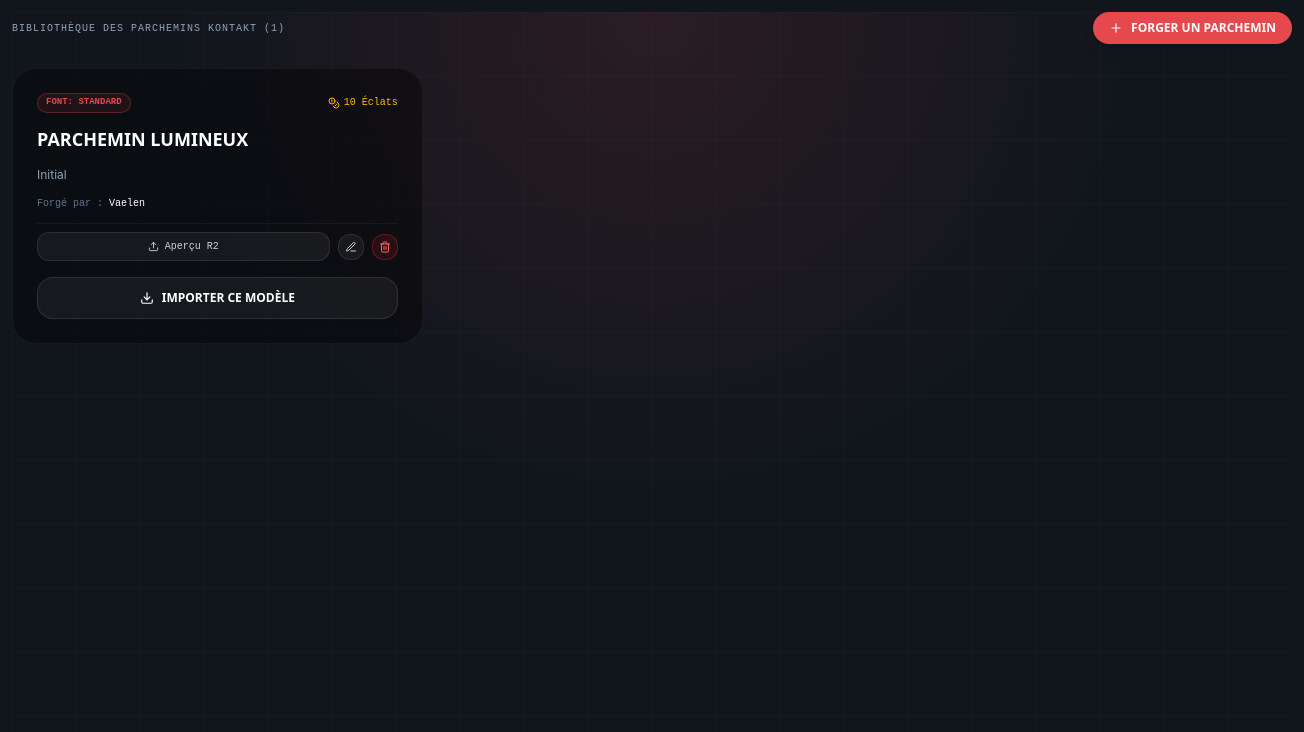
Composant CVMarketplaceGallery (SSOT & Gestion R2) › 🟢 doit modifier (PUT) et dissoudre (DELETE) un parchemin via /api/kontakt/templates/[slug]
Expected: the heading "Parchemin Lumineux" is shown, [37, 126, 248, 150]
# Édition (PUT)
Step 1. Click the button titled "Modifier Parchemin Lumineux" → (351,246), box [338, 234, 364, 260]
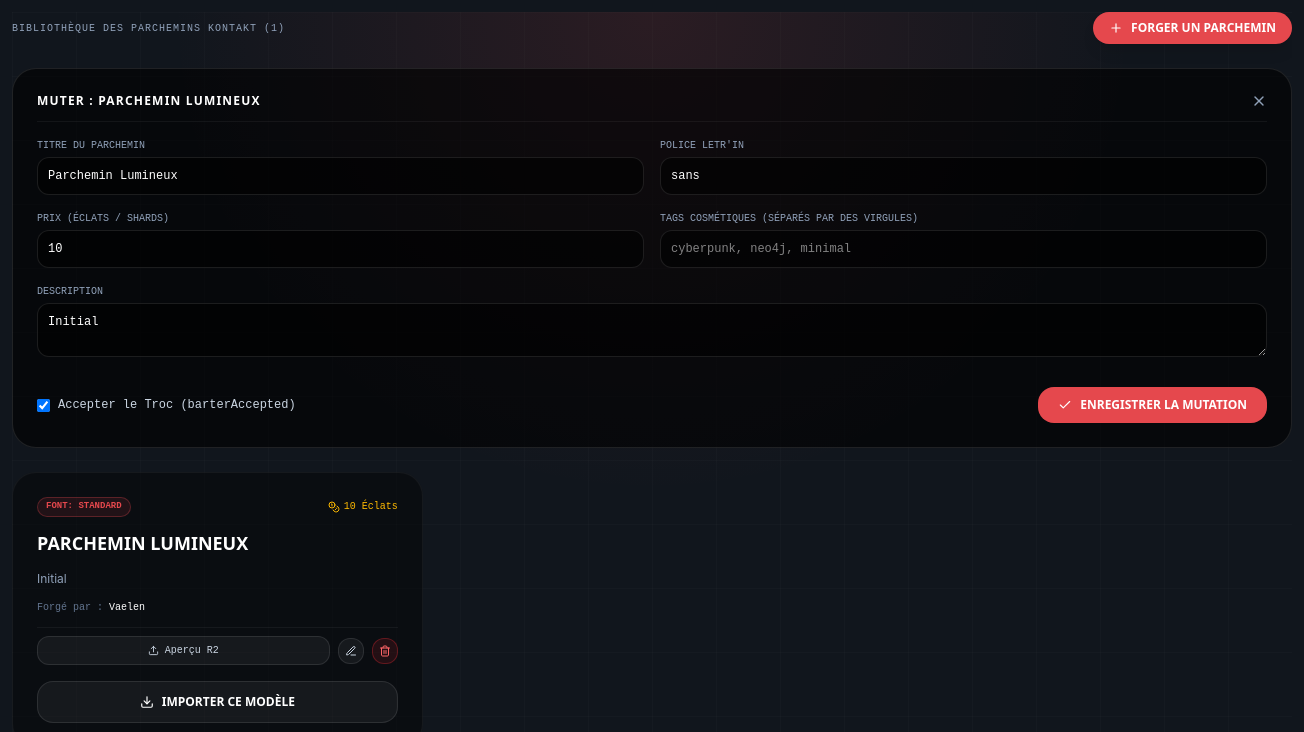
Step 2. Replace the text in the field labelled "Titre du Parchemin" with "Parchemin Muté" → (340,176), box [37, 157, 644, 195]
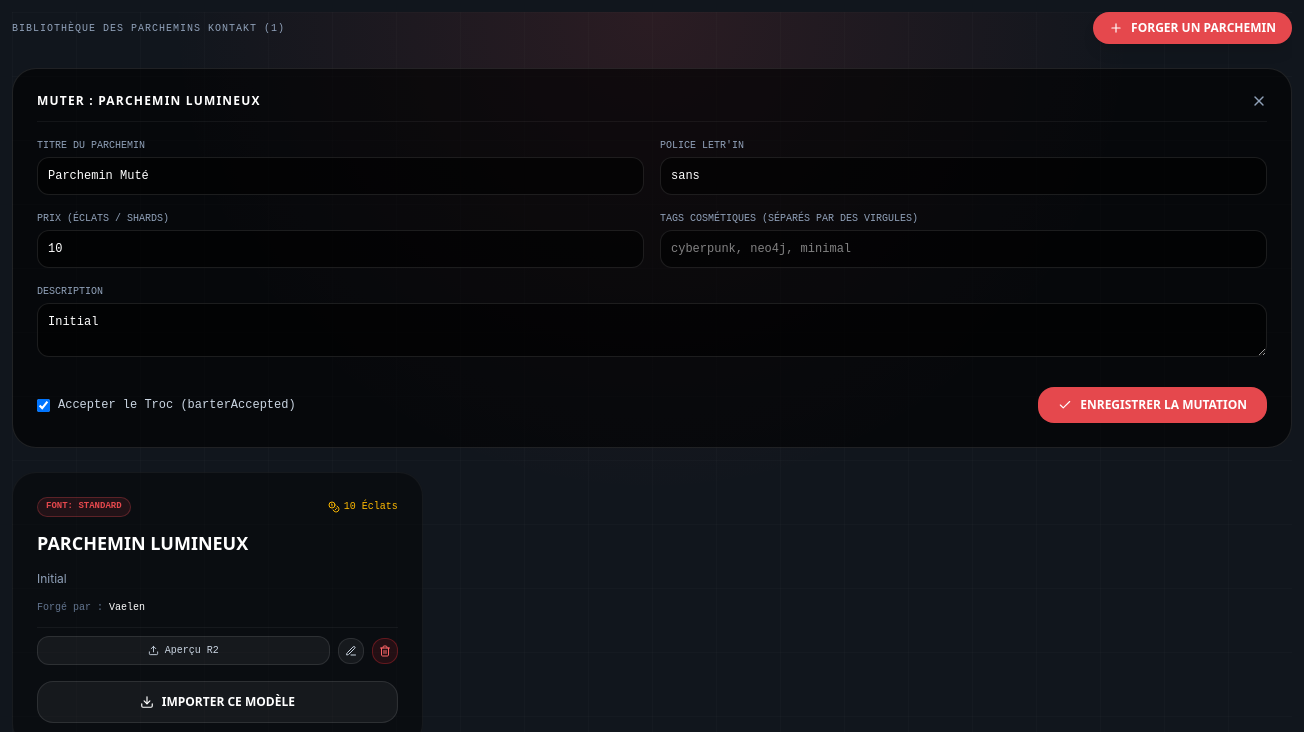
Step 3. Click the button "Enregistrer la Mutation" → (1153,405), box [1038, 387, 1267, 423]
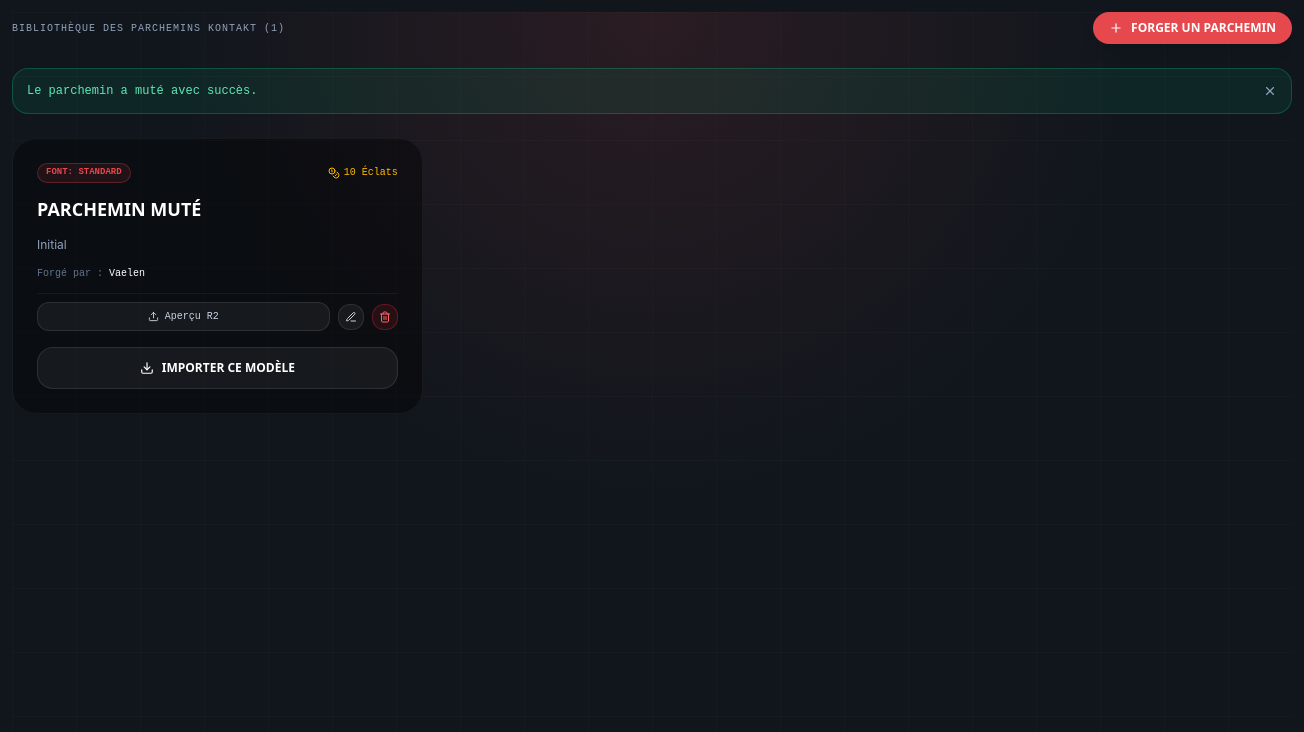
Expected: the heading "Parchemin Muté" is shown, [37, 196, 201, 220]
# Suppression (DELETE)
Step 4. Click the button titled "Dissoudre Parchemin Muté" → (385,316), box [372, 304, 398, 330]
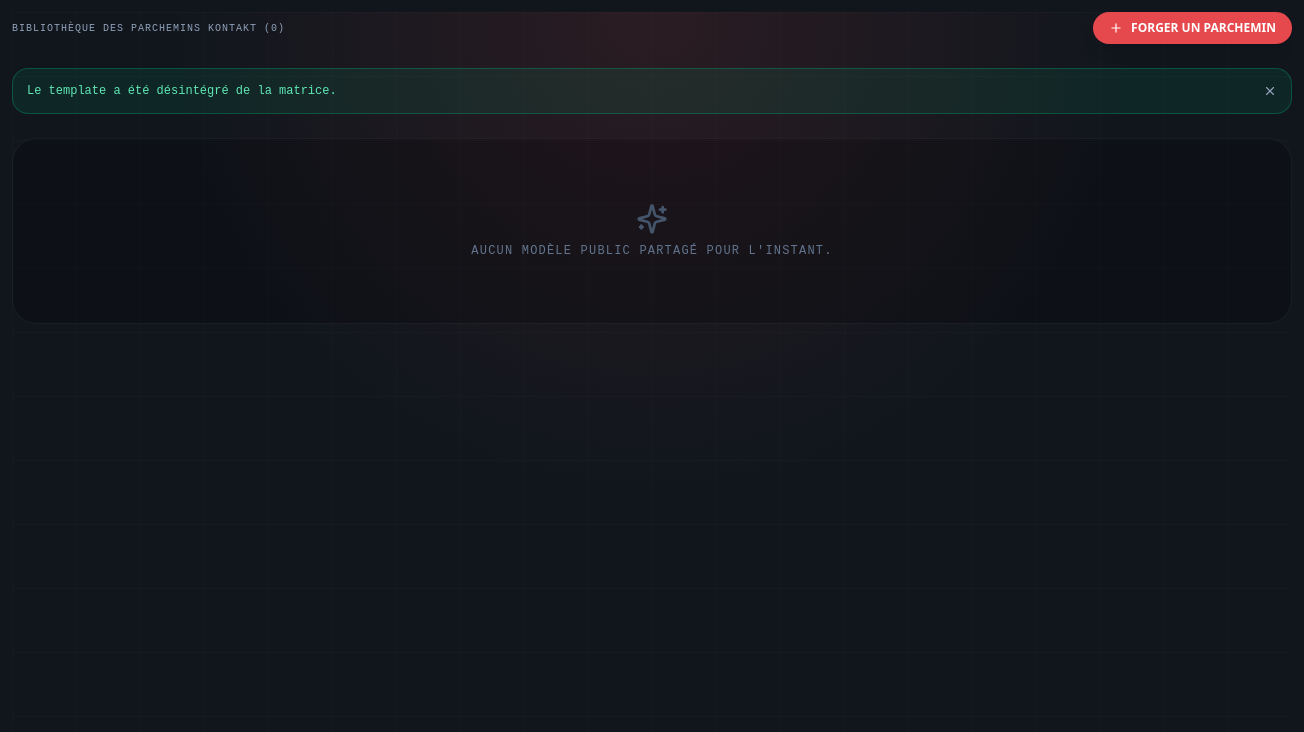
Expected: the heading "Parchemin Muté" is gone
